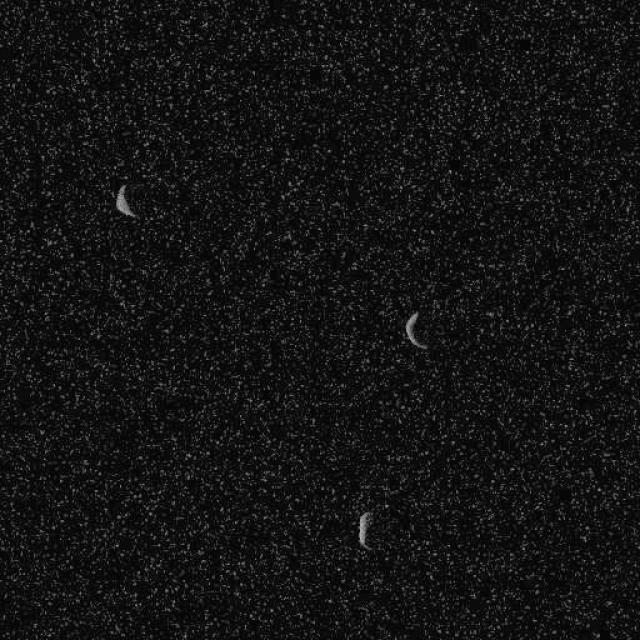D2: (404, 310, 428, 350), (114, 182, 138, 220), (357, 510, 372, 550)
